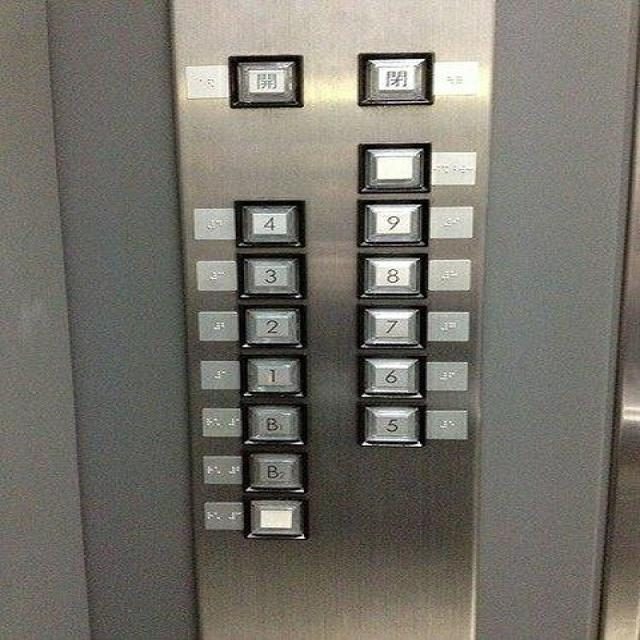1: (239, 352, 304, 396)
2: (236, 301, 305, 348)
3: (236, 251, 305, 299)
4: (232, 196, 305, 246)
5: (354, 399, 426, 447)
6: (354, 354, 426, 398)
7: (354, 301, 426, 350)
8: (354, 251, 426, 298)
9: (355, 196, 428, 246)
B1: (240, 402, 305, 444)
B2: (240, 449, 305, 491)
empty: (355, 139, 432, 193), (244, 496, 307, 539)
text: (354, 49, 434, 105), (225, 52, 304, 107)
